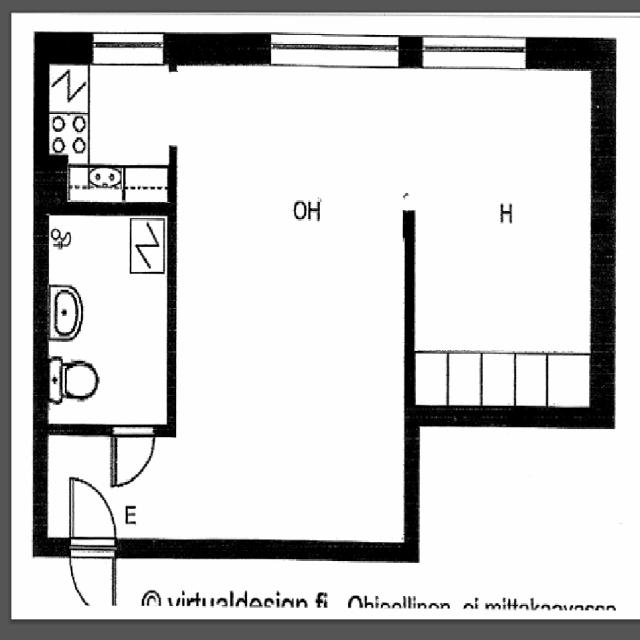door: (67, 476, 116, 546), (66, 545, 116, 612), (111, 424, 159, 492)
window: (268, 29, 400, 70), (419, 32, 530, 74), (88, 33, 168, 66)
zone: (172, 54, 416, 549), (412, 63, 600, 404), (46, 208, 172, 426), (42, 56, 172, 206)
